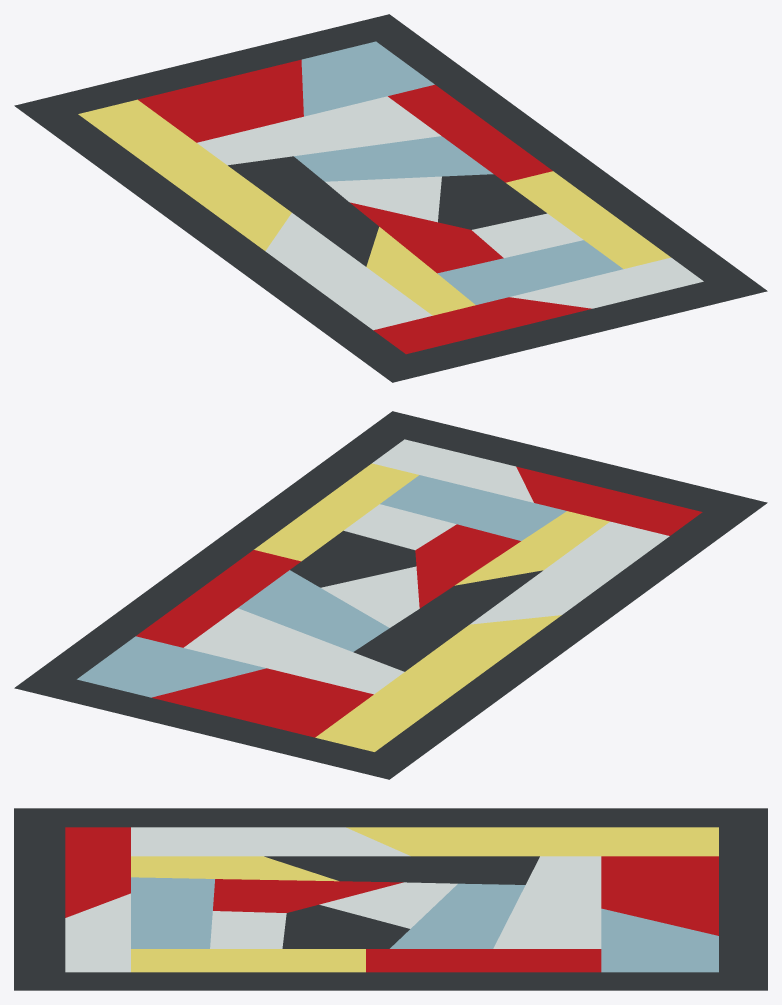
The model's file is rug.fbx.
3 views of the same model, one above another, from view 1: azimuth 30°, elevation 25°; view 2: azimuth 150°, elevation 25°; view 3: azimuth 270°, elevation 25° (orthographic).
Visible parts, largest first — view 1: rug; view 2: rug; view 3: rug.
Boxes of the visible parts, x1,y1,x2,y2 form: rug: (14,14,767,382); rug: (14,411,767,779); rug: (14,808,767,990).
Size of the model in its own units: 3.98 by 2.22e-16 by 6.95.
Materials: 1 (1 with a texture image).
